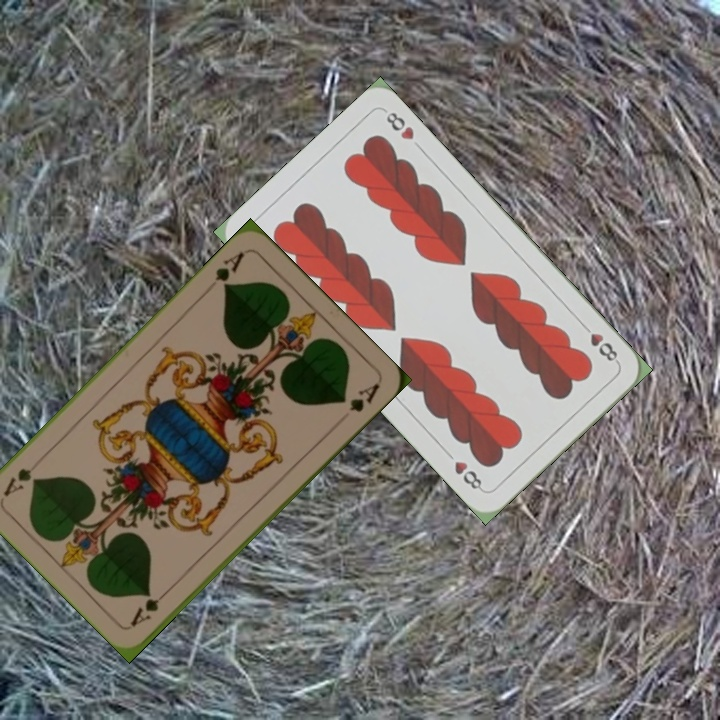GA: (126, 583, 174, 630), (211, 247, 247, 292)
H8: (577, 319, 622, 366)
